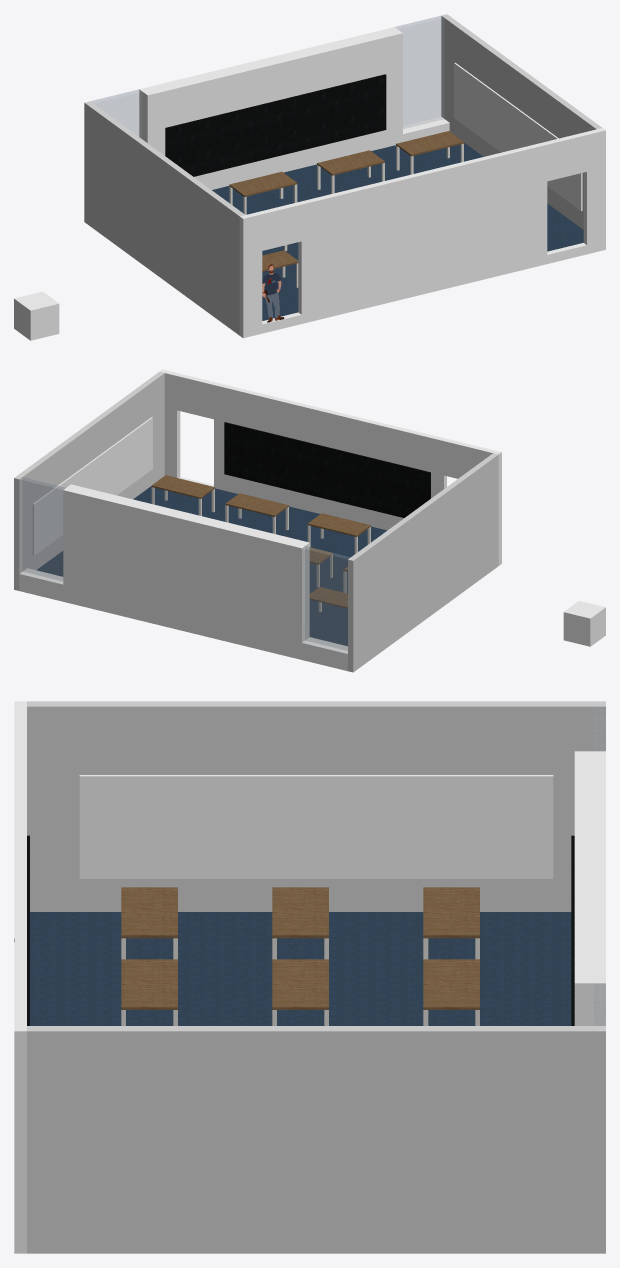
File: Classroom (2).fbx
3 views of the same model, one above another, from view 1: azimuth 30°, elevation 25°; view 2: azimuth 150°, elevation 25°; view 3: azimuth 270°, elevation 25° (orthographic). The views are drawn at different scales.
Visible parts, largest first — view 1: Wall_2_1, Wall_1_1, Wall_4_1, White_board_2_1, Wall_3_1, Classroom_floor1, White_board_3_1, Window_1_1, TEST_CUBE1, Window1, Table_top12, Table_top9 (+3 smaller); view 2: Wall_4_1, Wall_1_1, Wall_2_1, White_board1, Wall_3_1, Classroom_floor1, White_board_3_1, Window1, Window_1_1, TEST_CUBE1, Table_top4, Table_top3 (+2 smaller); view 3: Wall_3_1, Wall_1_1, White_board_1_1, Classroom_floor1, Wall_4_1, Wall_2_1, Table_top1, Table_top8, Table_top10, Table_top2, Table_top6, Table_top12 (+1 smaller).
Boxes of the visible parts, bbox=[...] form: Wall_2_1: bbox=[239, 128, 605, 338]; Wall_1_1: bbox=[84, 101, 244, 335]; Wall_4_1: bbox=[139, 27, 449, 189]; White_board_2_1: bbox=[165, 74, 386, 176]; Wall_3_1: bbox=[441, 14, 601, 229]; Classroom_floor1: bbox=[212, 142, 583, 320]; White_board_3_1: bbox=[454, 62, 582, 210]; Window_1_1: bbox=[395, 16, 444, 128]; TEST_CUBE1: bbox=[14, 291, 59, 340]; Window1: bbox=[91, 89, 142, 138]; Table_top12: bbox=[229, 171, 297, 196]; Table_top9: bbox=[317, 150, 384, 175]; Wall_4_1: bbox=[19, 484, 347, 671]; Wall_1_1: bbox=[348, 453, 498, 672]; Wall_2_1: bbox=[159, 369, 501, 565]; White_board1: bbox=[224, 422, 430, 517]; Wall_3_1: bbox=[14, 372, 164, 590]; Classroom_floor1: bbox=[37, 486, 387, 646]; White_board_3_1: bbox=[32, 417, 152, 555]; Window1: bbox=[302, 546, 350, 653]; Window_1_1: bbox=[19, 477, 65, 583]; TEST_CUBE1: bbox=[563, 600, 605, 646]; Table_top4: bbox=[151, 475, 214, 498]; Table_top3: bbox=[225, 493, 288, 516]; Wall_3_1: bbox=[27, 1026, 605, 1253]; Wall_1_1: bbox=[27, 701, 605, 911]; White_board_1_1: bbox=[79, 775, 553, 878]; Classroom_floor1: bbox=[30, 912, 571, 1025]; Wall_4_1: bbox=[574, 751, 605, 1025]; Wall_2_1: bbox=[14, 701, 26, 1253]; Table_top1: bbox=[121, 887, 177, 938]; Table_top8: bbox=[272, 887, 328, 938]; Table_top10: bbox=[423, 887, 479, 938]; Table_top2: bbox=[121, 959, 177, 1009]; Table_top6: bbox=[272, 959, 328, 1009]; Table_top12: bbox=[423, 959, 479, 1009].
Bounding box in the file's own units: 717 × 156 × 376.
